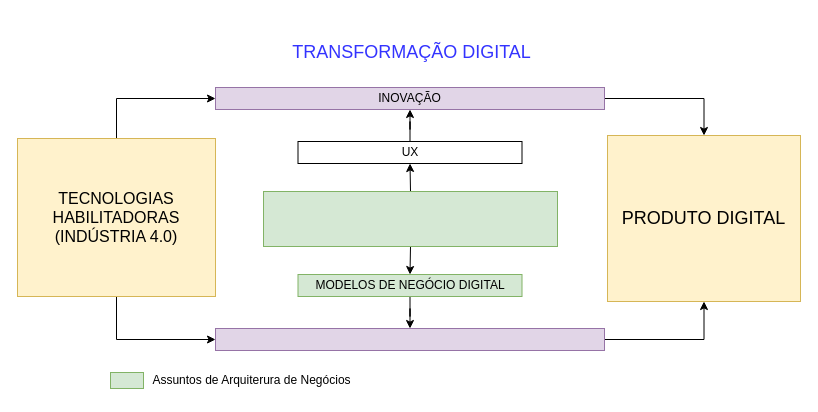
Some shapes in this 818 by 412 pixel diagram are drawn without their labels. The box of each missing label's shape, as (x1, y1, x2, y2) in pixels:
DADOS - DIGITALIZAÇÃO PROCESSOS - DIGITAÇÃO PESSOAS - AUTOMAÇÃO: (262, 190, 558, 246)
MODELO DE REFERÊNCIA ÁGIL: (214, 328, 604, 350)
